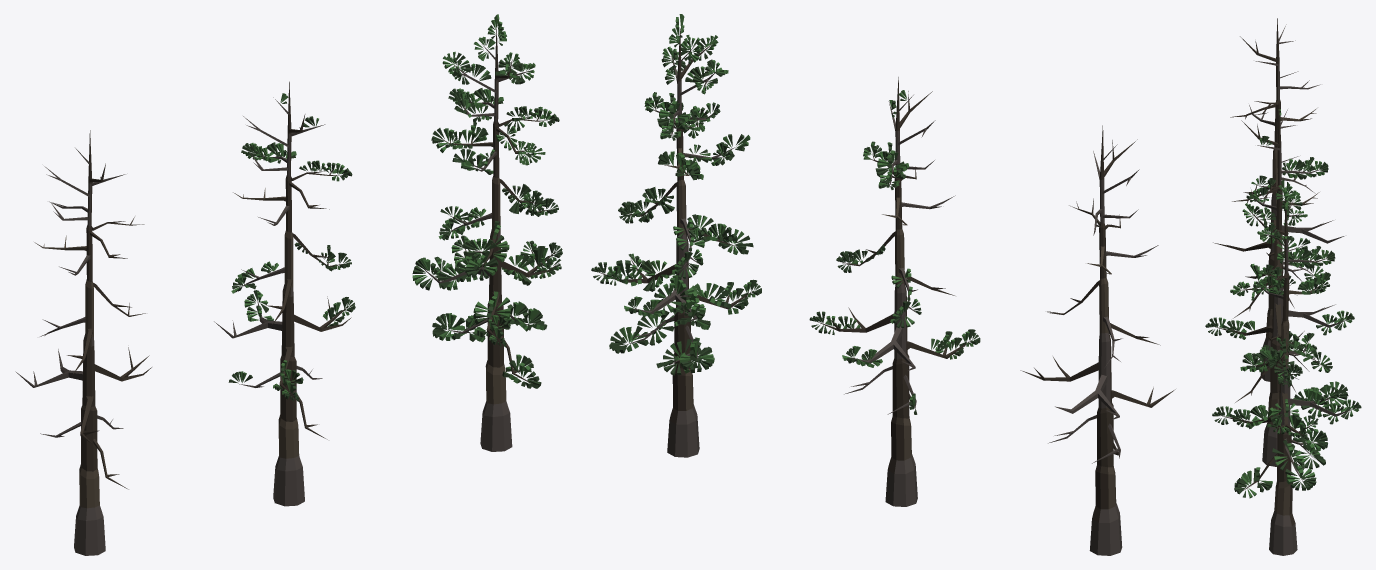
File: 3TREE_FOR_FREE.fbx
The picture shows the model from 3 angles, left to right: view 1: azimuth 30°, elevation 25°; view 2: azimuth 150°, elevation 25°; view 3: azimuth 270°, elevation 25°; orthographic projection. The views are drawn at different scales.
Parts seen in each view (by area): view 1: Cylinder.013, Cylinder.012, Cylinder.008; view 2: Cylinder.013, Cylinder.012, Cylinder.008; view 3: Cylinder.013, Cylinder.012, Cylinder.008.
Boxes of the visible parts, x1,y1,x2,y2 form: Cylinder.013: [412, 14, 562, 451]; Cylinder.012: [214, 81, 355, 506]; Cylinder.008: [15, 130, 151, 555]; Cylinder.013: [591, 14, 761, 457]; Cylinder.012: [809, 77, 980, 506]; Cylinder.008: [1020, 125, 1175, 555]; Cylinder.013: [1212, 179, 1361, 555]; Cylinder.012: [1205, 102, 1354, 466]; Cylinder.008: [1213, 18, 1344, 381].
Bounding box in the file's own units: 3578 × 2773 × 1058.
